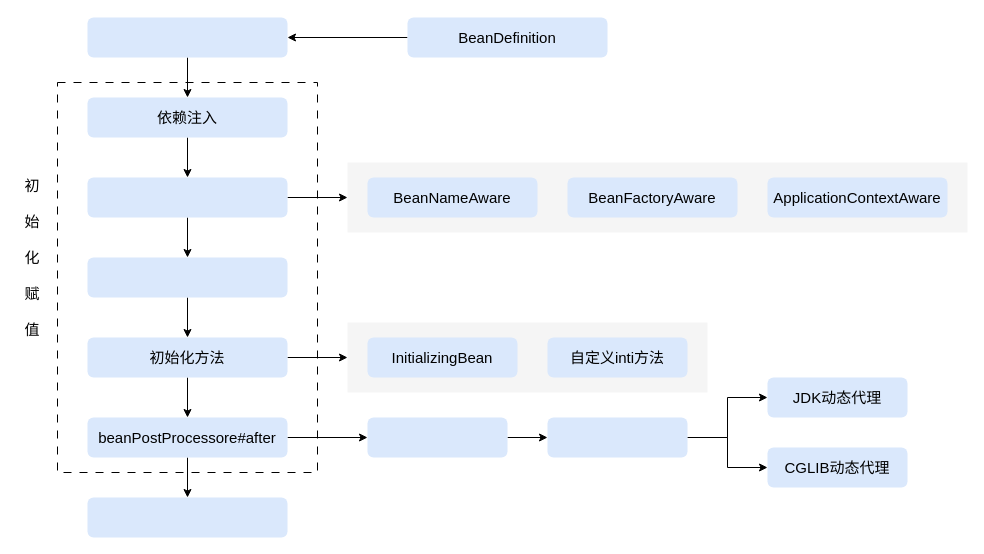
Image size: 984x554. Some labels were removed from this diagram. The shapes that lost their labels are listed below. From the top down, each one's centre as x and y in pixels, then its label:
At [187,37]: "构造函数".
At [187,197]: "Aware接口".
At [187,277]: "beanPostProcessore#before".
At [437,437]: "AOP".
At [617,437]: "动态代理".
At [187,517]: "销毁Bean".
